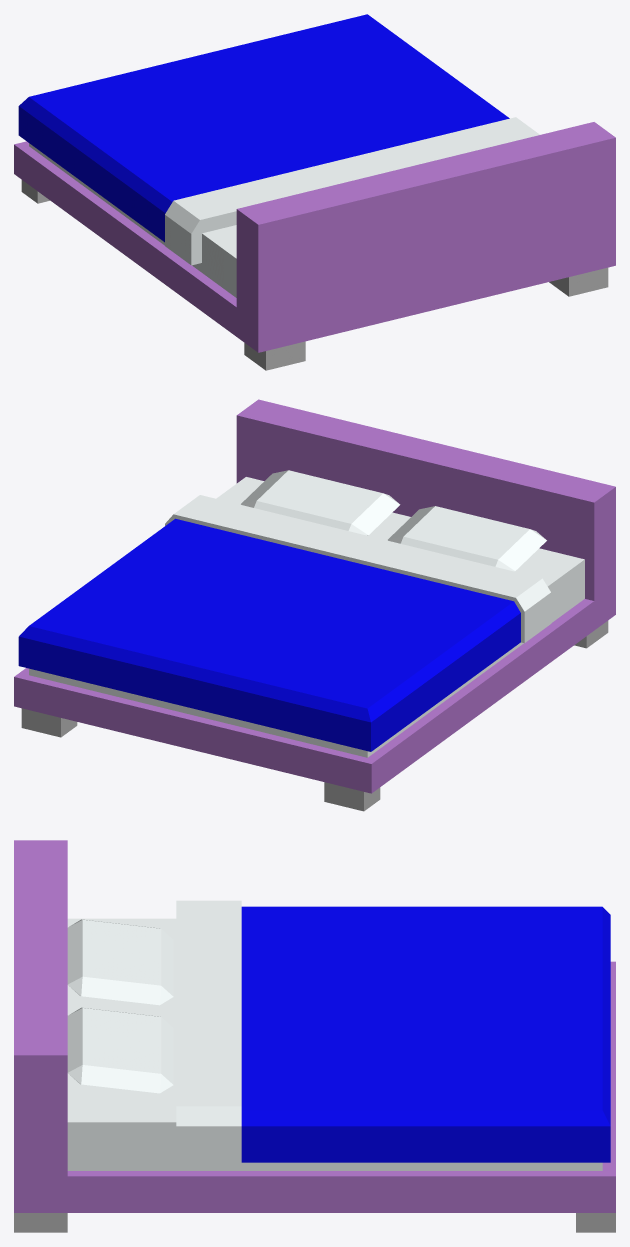
Rendered from bedDouble.glb.
The picture shows the model from 3 angles, top to bottom: view 1: azimuth 30°, elevation 25°; view 2: azimuth 150°, elevation 25°; view 3: azimuth 270°, elevation 25°; orthographic projection. The views are drawn at different scales.
Parts seen in each view (by area): view 1: bedDouble; view 2: bedDouble; view 3: bedDouble.
Boxes of the visible parts, <box> form: bedDouble: <box>14,14,615,370</box>; bedDouble: <box>14,399,615,811</box>; bedDouble: <box>14,840,615,1232</box>.
Size of the model in its own units: 2.09 by 0.8194 by 2.46.
